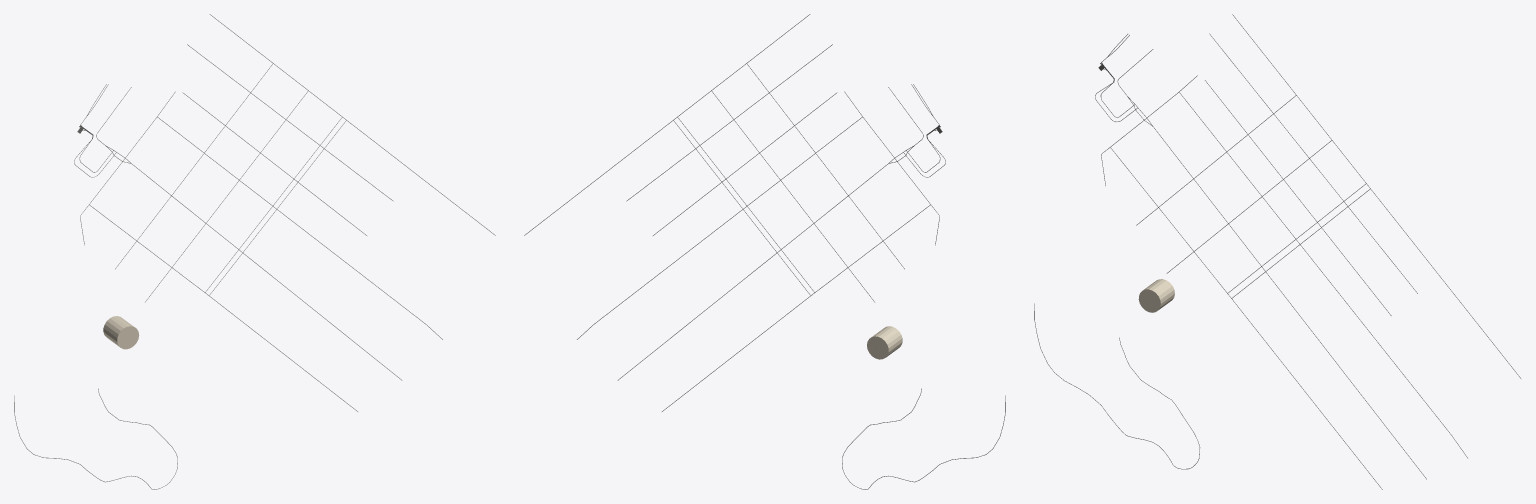
File: historic-palestine-09_33_3505_3279.glb
3 renders of one model, left to right at view 1: azimuth 30°, elevation 25°; view 2: azimuth 150°, elevation 25°; view 3: azimuth 330°, elevation 25°, orthographic.
Visible parts, largest first — view 1: Building_; view 2: Building_; view 3: Building_.
Part boxes in pixels (box(x1,y1,x2,y2)): Building_: box(103, 316, 139, 349); Building_: box(867, 326, 902, 359); Building_: box(1138, 279, 1174, 312).
Size of the model in its own units: 1496 by 1373 by 76.2.
